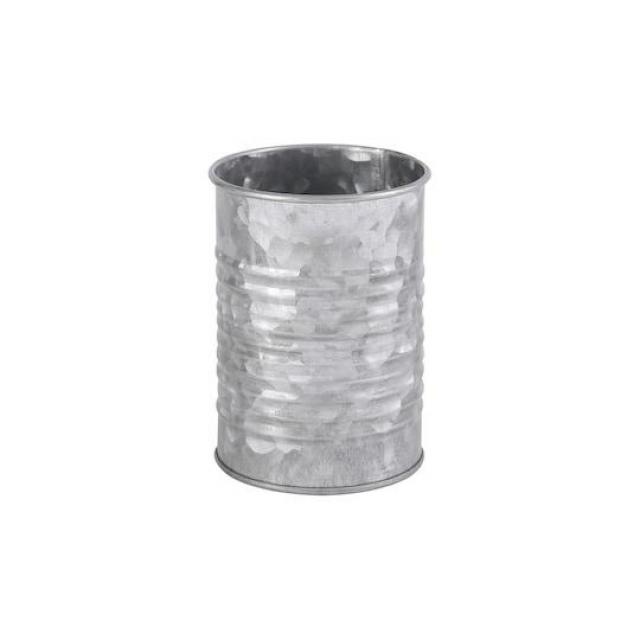metel: (209, 143, 433, 498)
